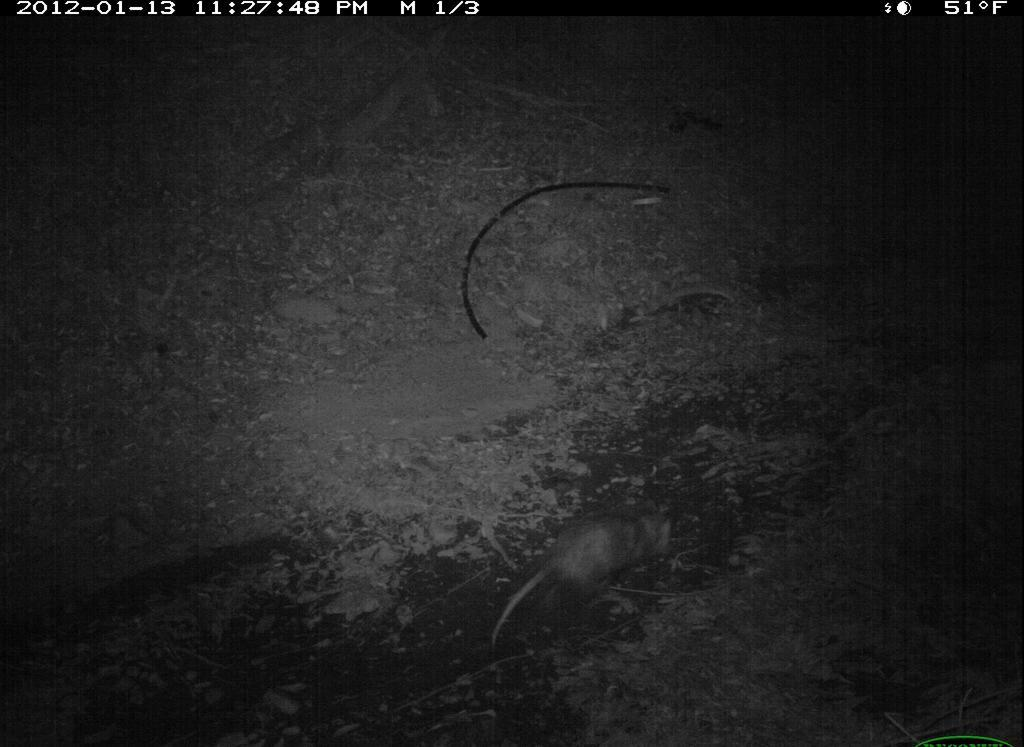opossum: (487, 493, 684, 648)
